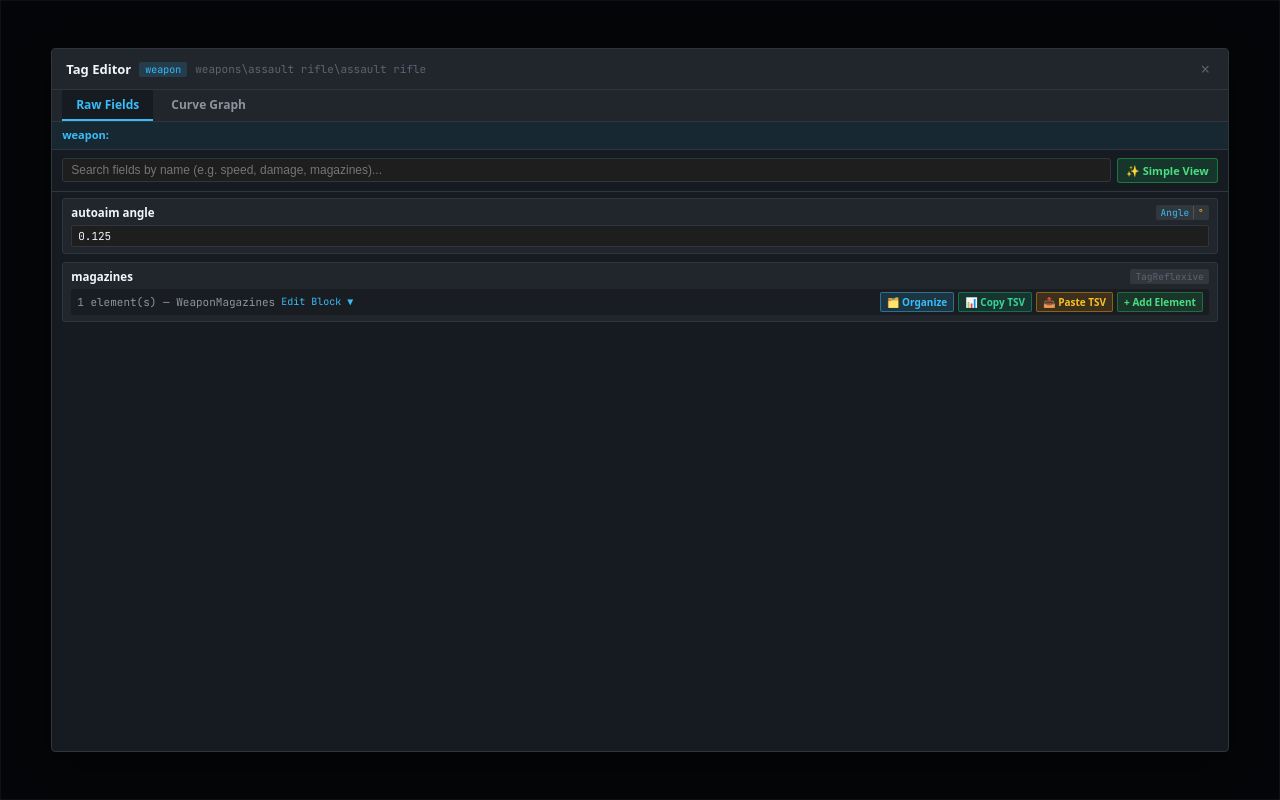
Test: TagEditorDialog › renders and expands a TagReflexive block with editable child fields
Expected: the text "1 element(s) — WeaponMagazines" is shown, [77, 295, 275, 309]
Expected: the text "Edit Block ▼" is shown, [281, 295, 353, 308]
Click the element with test id "reflexive-toggle-magazines" at (215, 302), box [77, 295, 353, 309]
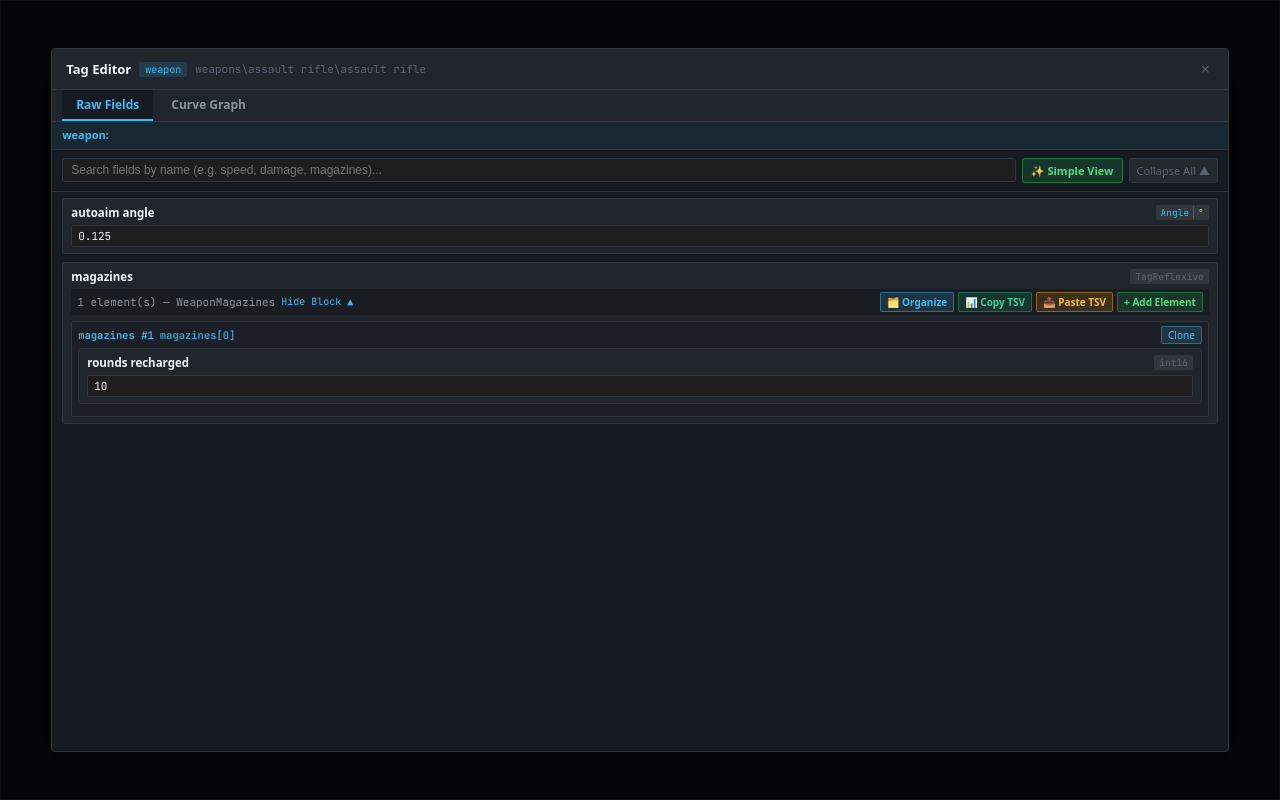
Expected: the element showing "magazines #1magazines[0] Clone rounds recharged int16" is shown, [71, 321, 1209, 417]
Expected: the text "magazines[0]" is shown, [160, 328, 235, 342]
Expected: the number field below "rounds recharged" is shown, [87, 375, 1193, 397]
